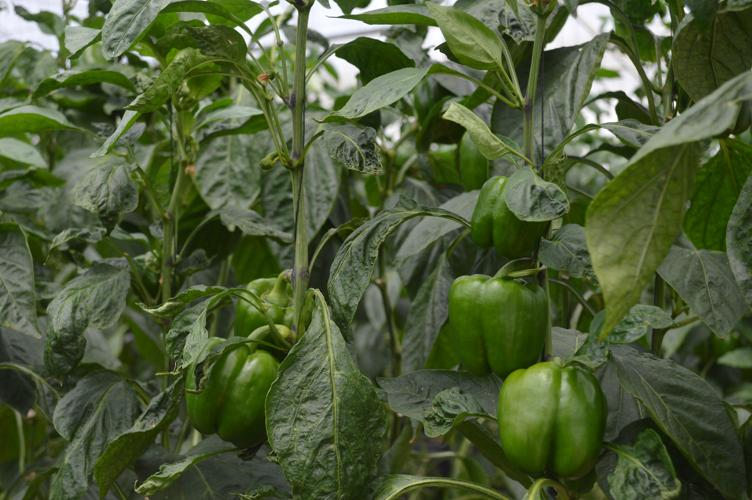BellPepper: (494, 363, 607, 479), (438, 271, 544, 369), (179, 338, 277, 440), (469, 177, 540, 259), (229, 279, 311, 344), (428, 133, 481, 190)
